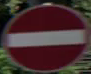No entry: (6, 12, 85, 59)
